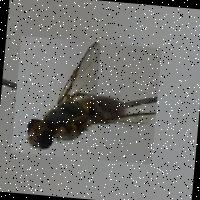Oriental-fruit-fly: (10, 34, 161, 164)
